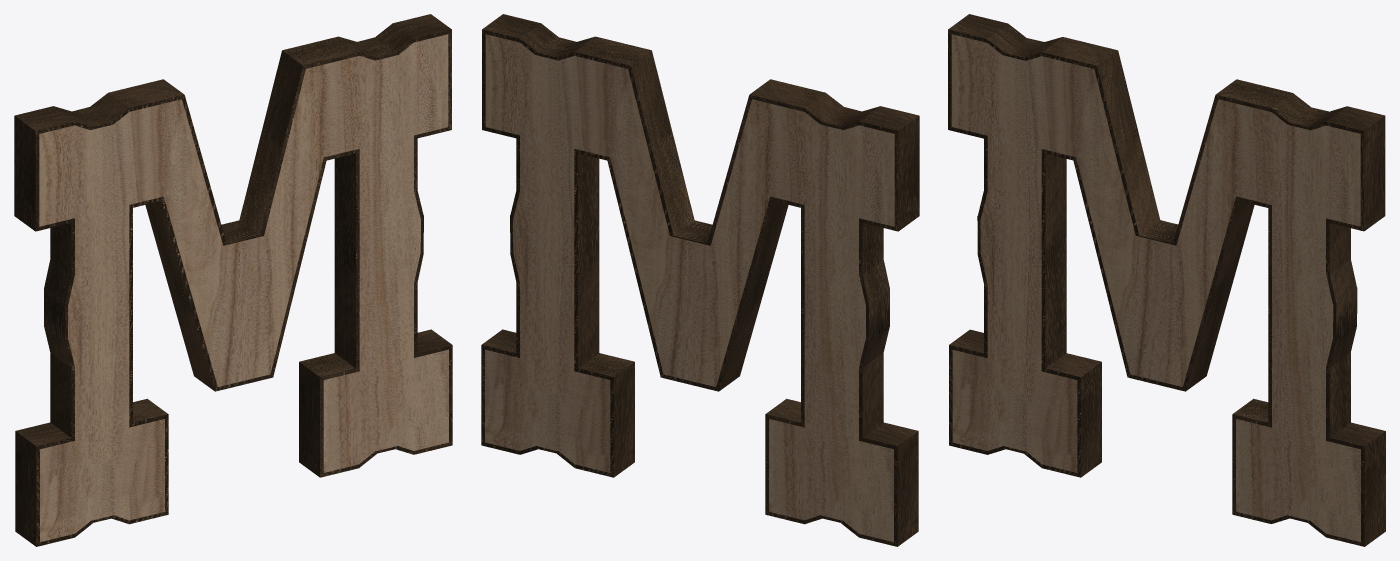
The picture shows the model from 3 angles, left to right: view 1: azimuth 30°, elevation 25°; view 2: azimuth 150°, elevation 25°; view 3: azimuth 330°, elevation 25°; orthographic projection.
Parts seen in each view (by area): view 1: M, M_outline; view 2: M, M_outline; view 3: M, M_outline.
Part boxes in pixels (x1=…): M: x1=39, y1=34, x2=448, y2=542; M_outline: x1=14, y1=14, x2=452, y2=546; M: x1=485, y1=34, x2=894, y2=542; M_outline: x1=481, y1=14, x2=919, y2=546; M: x1=951, y1=34, x2=1360, y2=541; M_outline: x1=948, y1=14, x2=1385, y2=546.
Bounding box in the file's own units: 114 × 109 × 10.
Materials: 2 (2 with a texture image).
